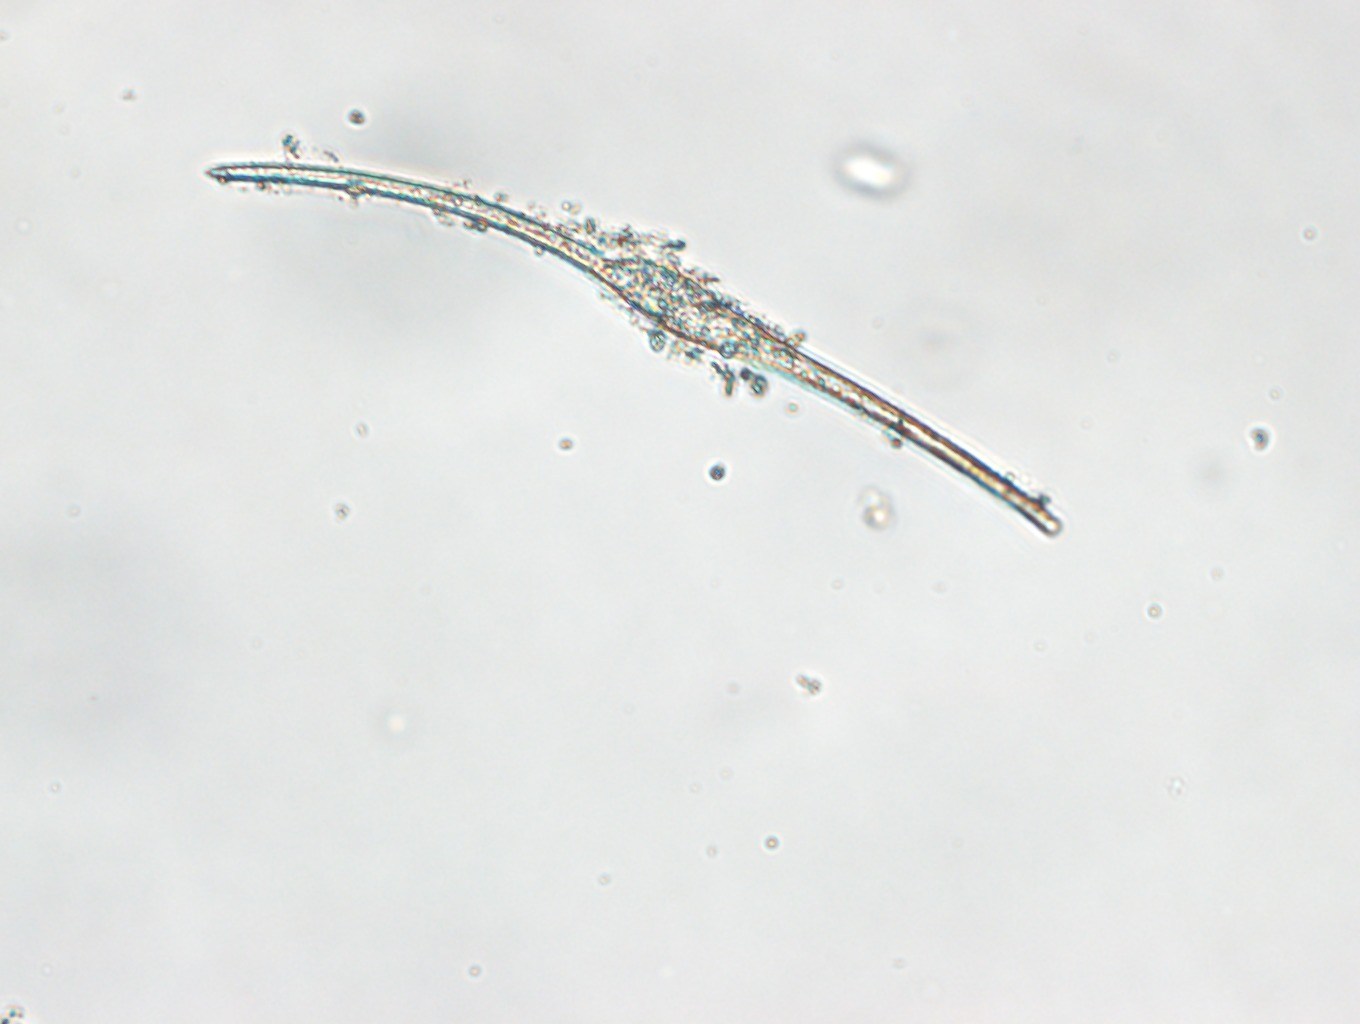ceratium fusus: (202, 163, 1061, 538)
